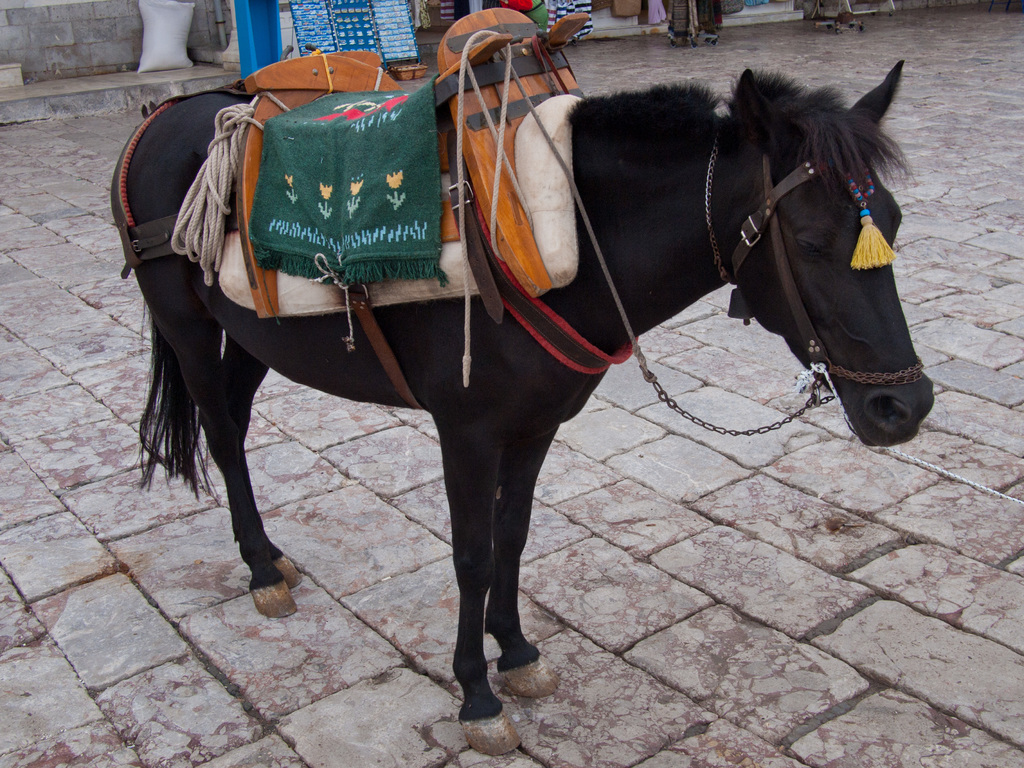horse: (107, 60, 935, 756)
